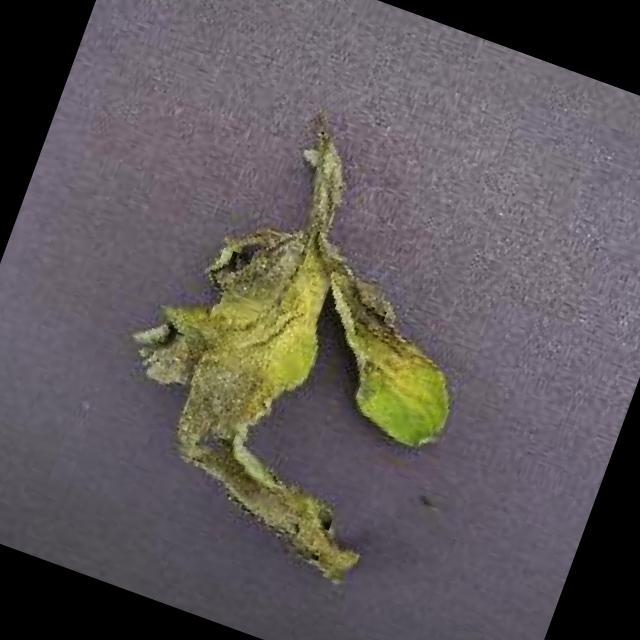Tomato late blight leaf: (87, 187, 494, 600)
